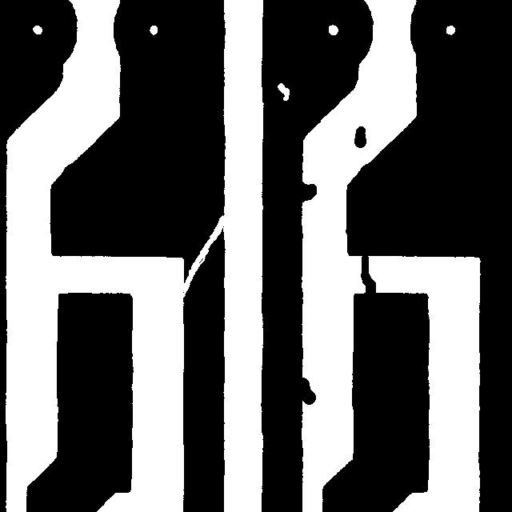copper: (346, 118, 374, 155)
open: (174, 207, 232, 304)
pin-hole: (270, 75, 297, 108)
short: (353, 244, 383, 304)
spur: (288, 370, 323, 412), (287, 173, 324, 210)
